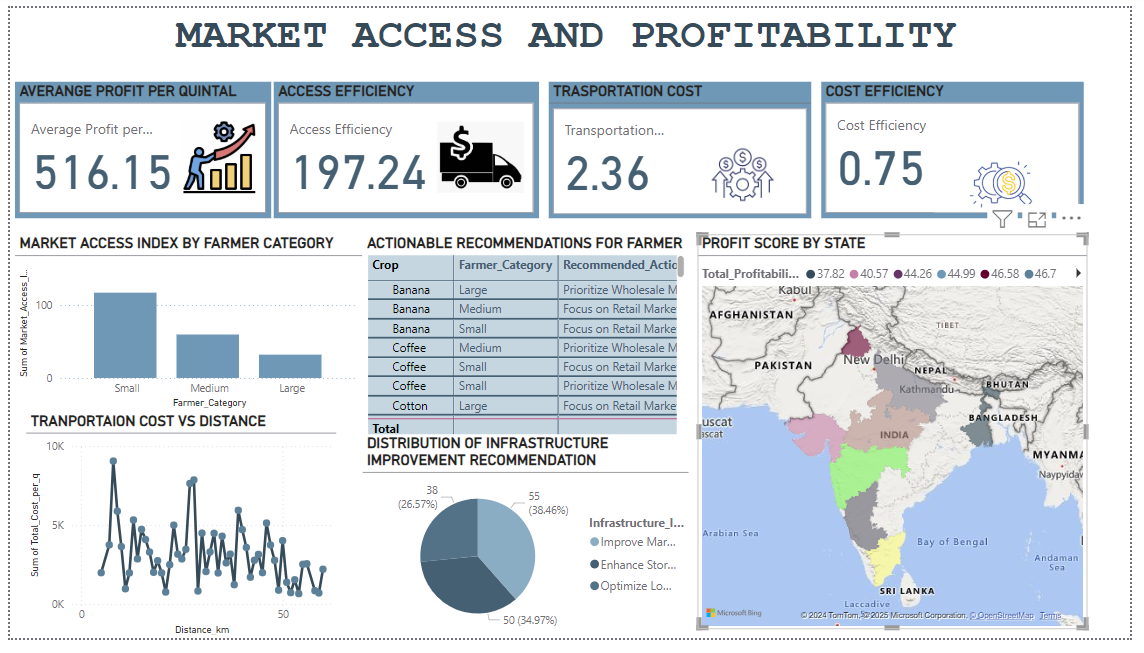

Layout of this report page (visuals, bound fields, positions):
{"tool":"powerbi","page":{"name":"Page 1","canvas":[1280,720],"ordinal":0},"visuals":[{"type":"lineChart","title":"TRANPORTAION COST VS DISTANCE","fields":{"Category":["cleaned_dataset.Distance_km"],"Y":["Sum(cleaned_dataset.Total_Cost_per_q)"]},"box":[18.6,461.4,354.3,258.6],"z":0},{"type":"filledMap","title":"PROFIT SCORE BY STATE","fields":{"Category":["cleaned_dataset.State"],"Series":["cleaned_dataset.Total_Profitability_Score"]},"box":[785.7,258.6,445.7,451.4],"z":1000},{"type":"tableEx","title":"ACTIONABLE RECOMMENDATIONS  FOR  FARMER","fields":{"Values":["cleaned_dataset.Crop","cleaned_dataset.Farmer_Category","cleaned_dataset.Recommended_Action","cleaned_dataset.Infrastructure_Improvement_Recommendation"]},"box":[402.9,258.6,372.9,245.7],"z":3000},{"type":"columnChart","title":"MARKET ACCESS INDEX BY FARMER CATEGORY","fields":{"Category":["cleaned_dataset.Farmer_Category"],"Y":["Sum(cleaned_dataset.Market_Access_Index)"]},"box":[5.7,258.6,397.1,202.9],"z":4000},{"type":"pieChart","title":"DISTRIBUTION OF INFRASTRUCTURE IMPROVEMENT RECOMMENDATION","fields":{"Category":["cleaned_dataset.Infrastructure_Improvement_Recommendation"],"Y":["CountNonNull(cleaned_dataset.Infrastructure_Improvement_Recommendation)"]},"box":[402.9,487.1,372.9,232.9],"z":5000},{"type":"textbox","box":[98.6,0,1054.3,84.3],"z":6000},{"type":"cardVisual","title":"AVERANGE PROFIT PER QUINTAL","fields":{"Data":["cleaned_dataset.Average Profit per Quintal"]},"box":[5.7,84.3,292.9,155.7],"z":7000},{"type":"cardVisual","title":"ACCESS EFFICIENCY","fields":{"Data":["cleaned_dataset.Access Efficiency"]},"box":[301.4,84.3,302.9,155.7],"z":8000},{"type":"cardVisual","title":"TRASPORTATION  COST","fields":{"Data":["cleaned_dataset.Transportation Cost per km"]},"box":[615.7,84.3,300,155.7],"z":9000},{"type":"cardVisual","title":"COST EFFICIENCY","fields":{"Data":["cleaned_dataset.Cost Efficiency"]},"box":[927.1,84.3,300,155.7],"z":10000}]}

Visuals, with their boxes in screenshot pixels (x1, y1, x2, y2), scaled from the page's 1280x720 canvas onto the 1144x653 screenshot:
"TRANPORTAION COST VS DISTANCE" lineChart: bbox=[17, 418, 333, 652]
"PROFIT SCORE BY STATE" filledMap: bbox=[702, 235, 1101, 644]
"ACTIONABLE RECOMMENDATIONS  FOR  FARMER" tableEx: bbox=[360, 235, 693, 457]
"MARKET ACCESS INDEX BY FARMER CATEGORY" columnChart: bbox=[5, 235, 360, 419]
"DISTRIBUTION OF INFRASTRUCTURE IMPROVEMENT RECOMMENDATION" pieChart: bbox=[360, 442, 693, 652]
textbox: bbox=[88, 0, 1030, 76]
"AVERANGE PROFIT PER QUINTAL" cardVisual: bbox=[5, 76, 267, 218]
"ACCESS EFFICIENCY" cardVisual: bbox=[269, 76, 540, 218]
"TRASPORTATION  COST" cardVisual: bbox=[550, 76, 818, 218]
"COST EFFICIENCY" cardVisual: bbox=[829, 76, 1097, 218]
